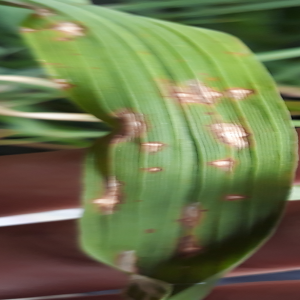Rice_Blast: (161, 68, 255, 111), (202, 113, 272, 158), (93, 101, 149, 154), (89, 168, 129, 213), (46, 15, 87, 52), (48, 68, 89, 100), (108, 241, 144, 270), (133, 156, 170, 180), (141, 135, 166, 155)
